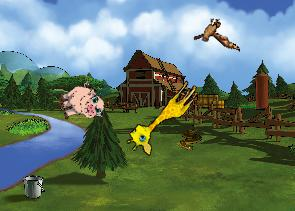eagle: (192, 16, 240, 54)
giraffe: (122, 71, 202, 160)
pig: (56, 79, 106, 127)
